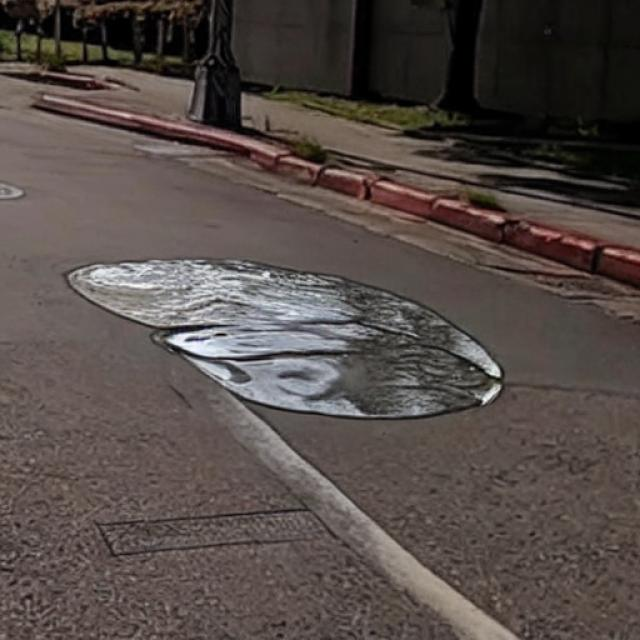puddle: (69, 260, 504, 419)
